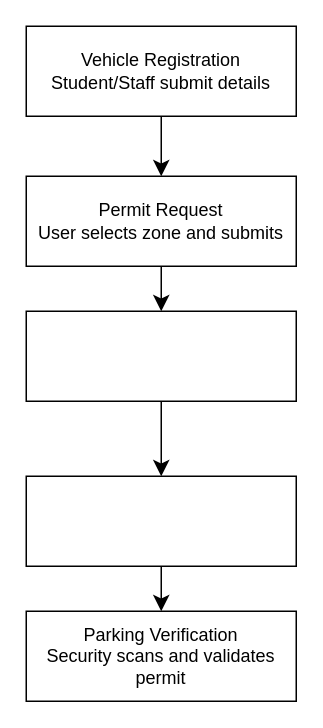
The diagram is 323 pixels wide and 728 high, and some of its shapes have lost their labels. The shapes that lost their labels are listed below. From the top down, each one's centre as x and y in pixels, then its label:
At pixel 160 355: "Zone Check System checks zone availability".
At pixel 160 520: "Permit Approval System issues digital permit".
